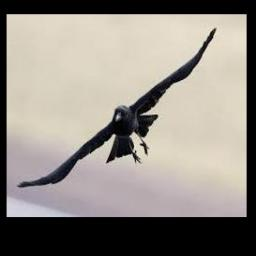Crow: (17, 26, 218, 189)
